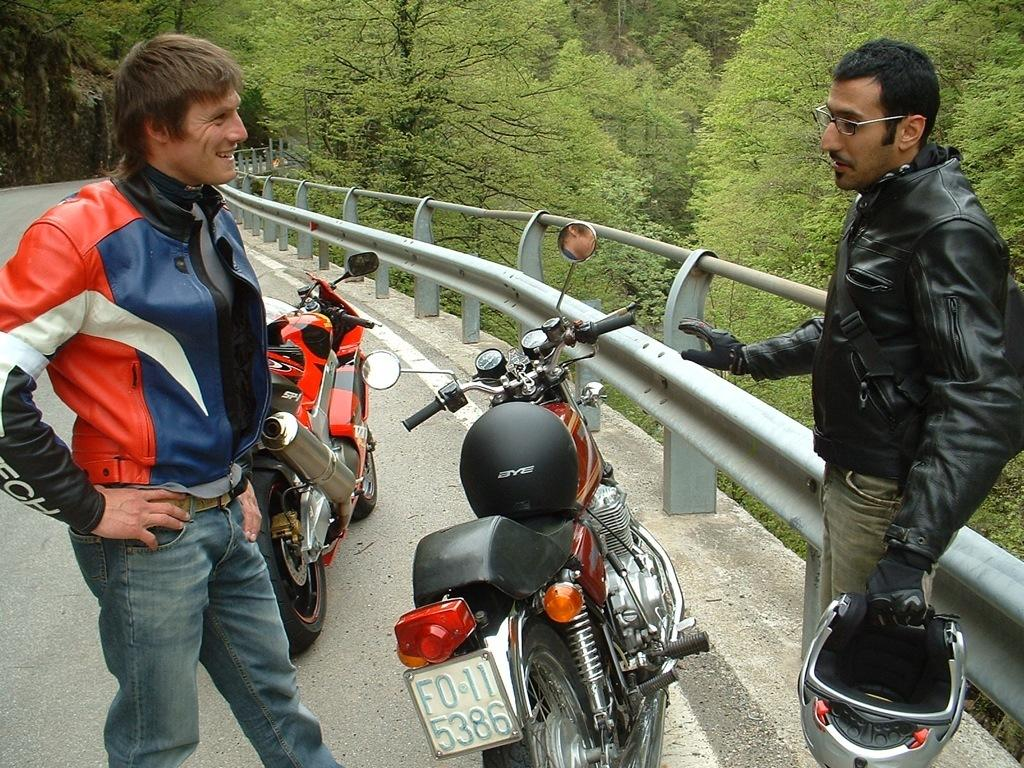helmet: (797, 592, 967, 768), (459, 401, 580, 521)
nohelmet: (108, 31, 251, 195), (816, 36, 943, 196)
